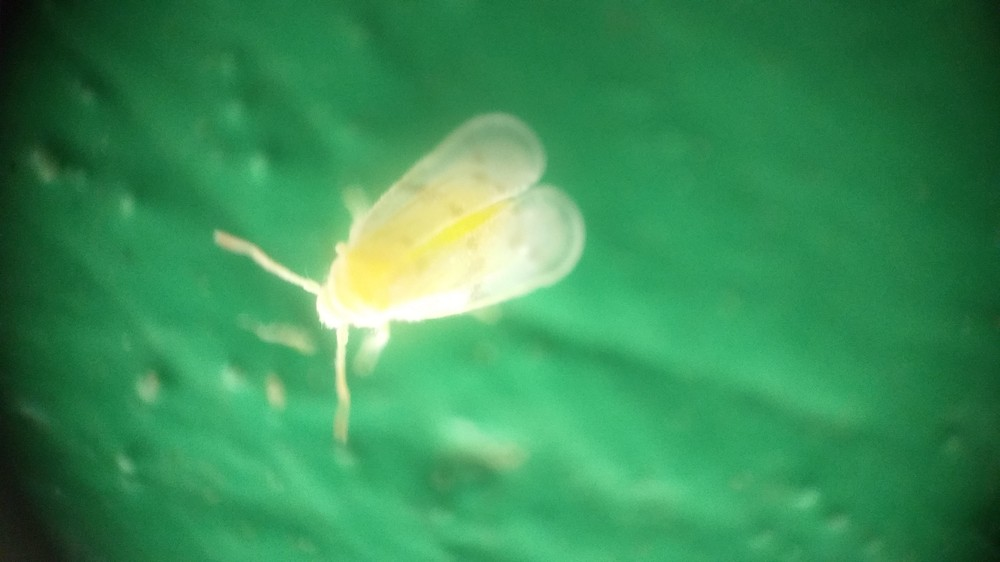Mosca Blanca: (207, 109, 606, 469)
